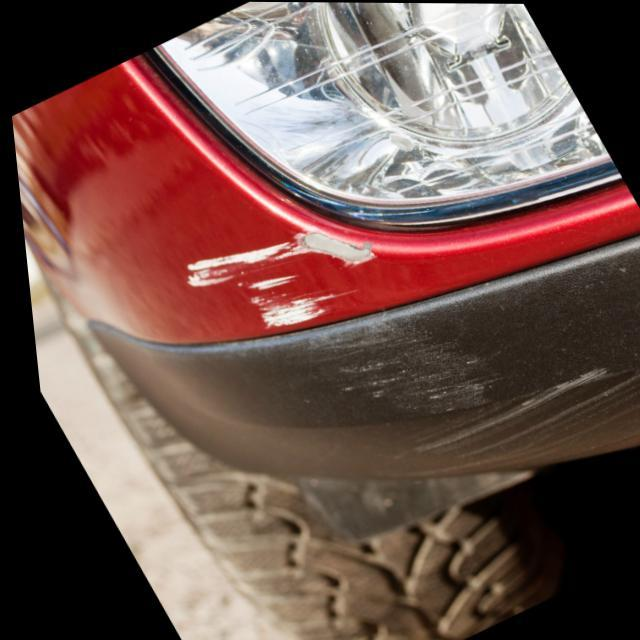scratch: (299, 311, 640, 472), (174, 223, 377, 332)
